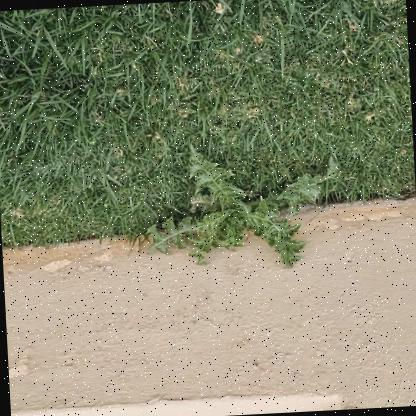Weeds: (141, 138, 349, 278)
